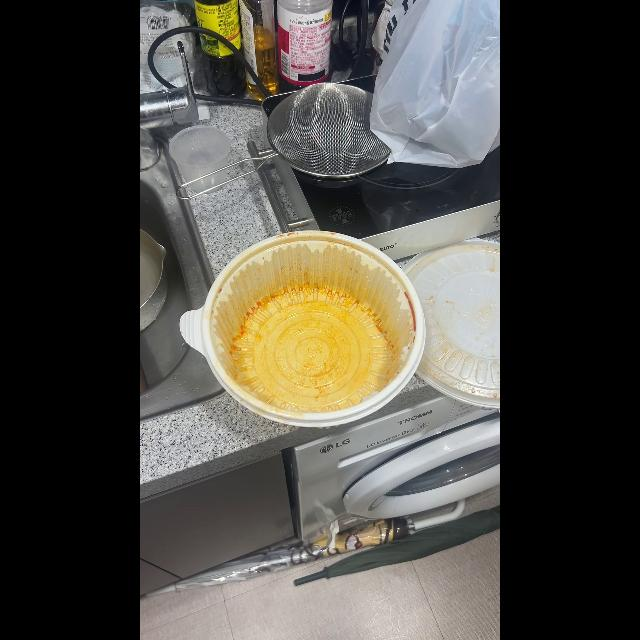dirty: (207, 234, 419, 418)
